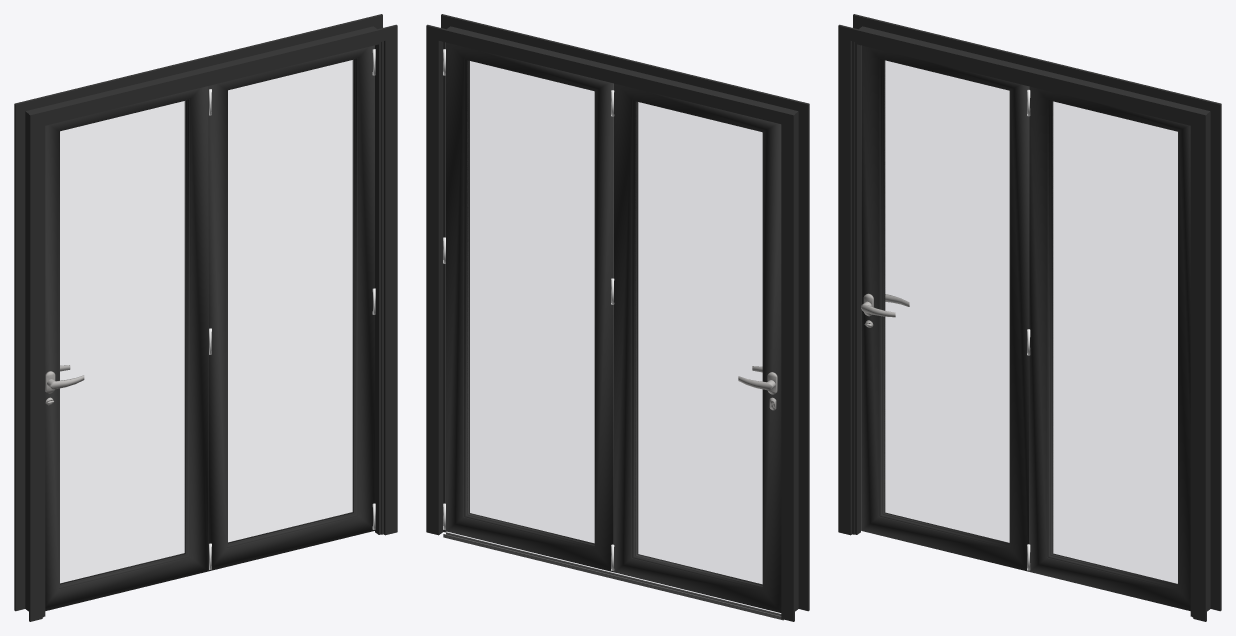
Rendered from BI-FOLD DOOR (160X210CM).glb.
3 renders of one model, left to right at view 1: azimuth 30°, elevation 25°; view 2: azimuth 150°, elevation 25°; view 3: azimuth 330°, elevation 25°, orthographic.
Parts seen in each view (by area): view 1: BI-FOLD DOOR-OP.1, eb_FOLDING 2 X 3 GLASS eb_FOLDING 2 X 3 GLASS [221387]_Defin; view 2: BI-FOLD DOOR-OP.1, eb_FOLDING 2 X 3 GLASS eb_FOLDING 2 X 3 GLASS [221387]_Defin; view 3: BI-FOLD DOOR-OP.1, eb_FOLDING 2 X 3 GLASS eb_FOLDING 2 X 3 GLASS [221387]_Defin.
Boxes of the visible parts, x1,y1,x2,y2 form: BI-FOLD DOOR-OP.1: [45, 45, 375, 610]; eb_FOLDING 2 X 3 GLASS eb_FOLDING 2 X 3 GLASS [221387]_Defin: [14, 14, 397, 621]; BI-FOLD DOOR-OP.1: [443, 42, 783, 620]; eb_FOLDING 2 X 3 GLASS eb_FOLDING 2 X 3 GLASS [221387]_Defin: [426, 14, 809, 621]; BI-FOLD DOOR-OP.1: [861, 45, 1190, 610]; eb_FOLDING 2 X 3 GLASS eb_FOLDING 2 X 3 GLASS [221387]_Defin: [838, 14, 1221, 621].
Bounding box in the file's own units: 1.6 × 2.12 × 0.1374.
5 materials, 1 textured.
